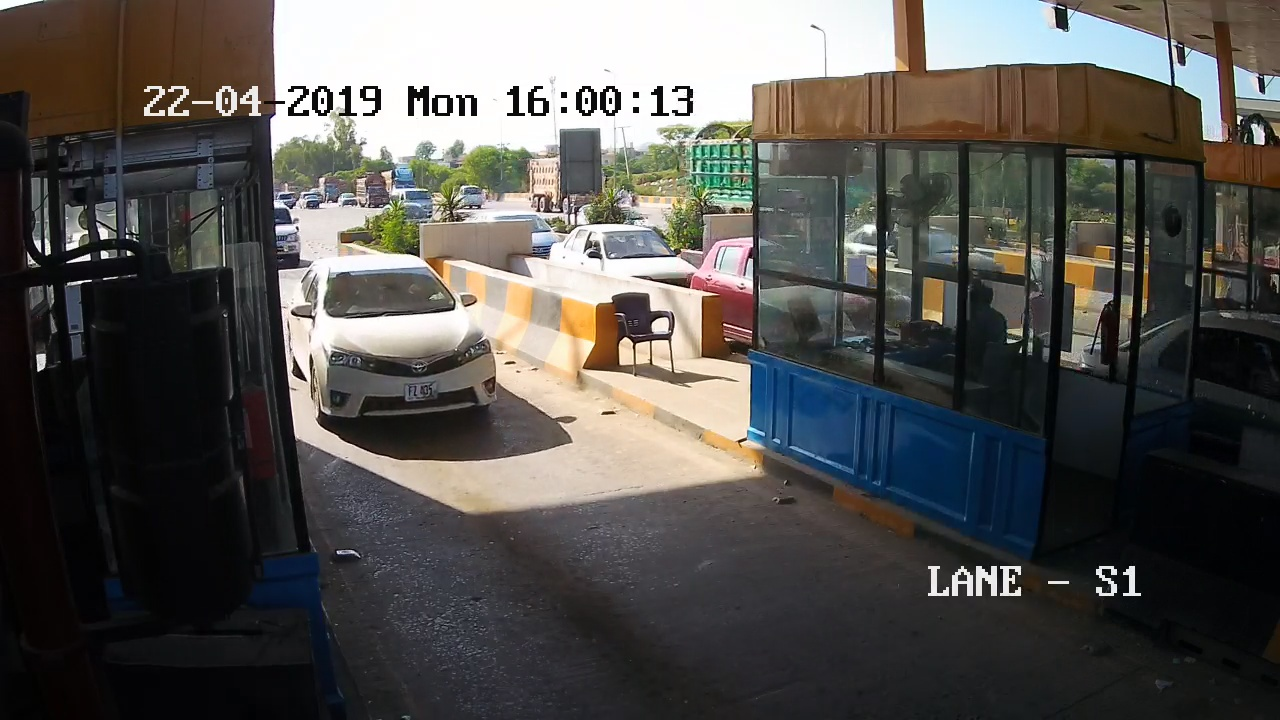car: (286, 259, 519, 441)
